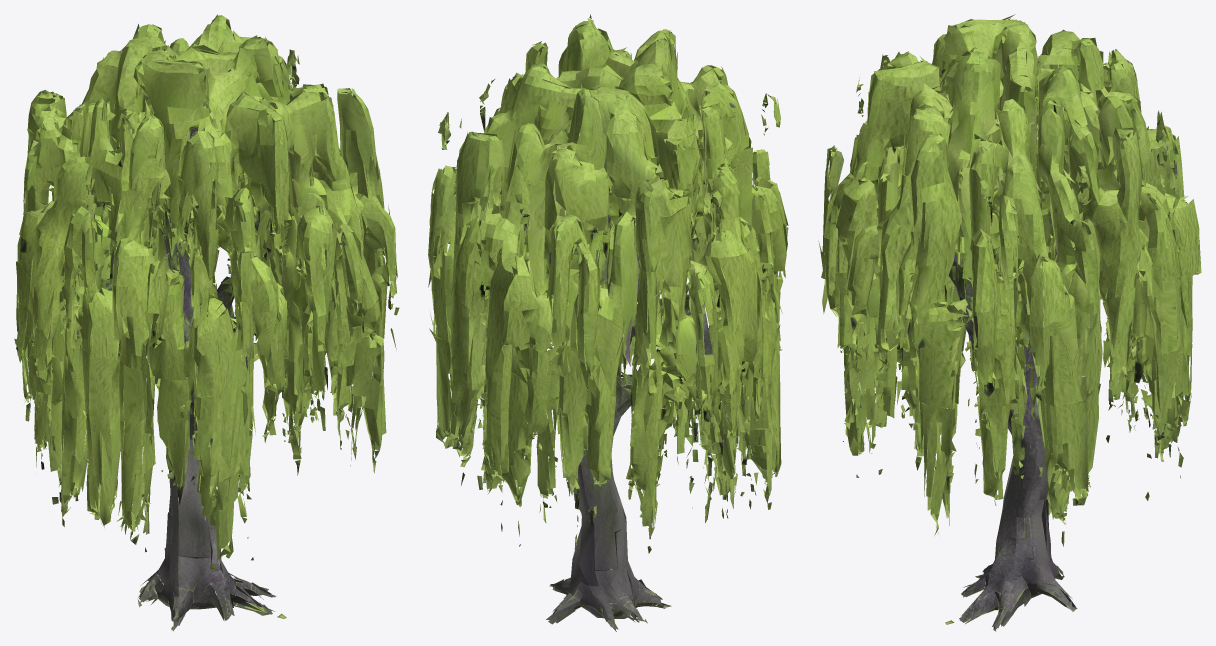
The model's file is veg_tree_willow_01.glb.
The picture shows the model from 3 angles, left to right: view 1: azimuth 30°, elevation 25°; view 2: azimuth 150°, elevation 25°; view 3: azimuth 270°, elevation 25°; orthographic projection.
Parts seen in each view (by area): view 1: veg_tree_willow_01; view 2: veg_tree_willow_01; view 3: veg_tree_willow_01.
Part boxes in pixels (x1,y1,x2,y2): veg_tree_willow_01: (14,14,399,631); veg_tree_willow_01: (428,14,788,631); veg_tree_willow_01: (818,14,1201,631).
Size of the model in its own units: 8.27 by 14.04 by 8.5.
Materials: 1 (1 with a texture image).
